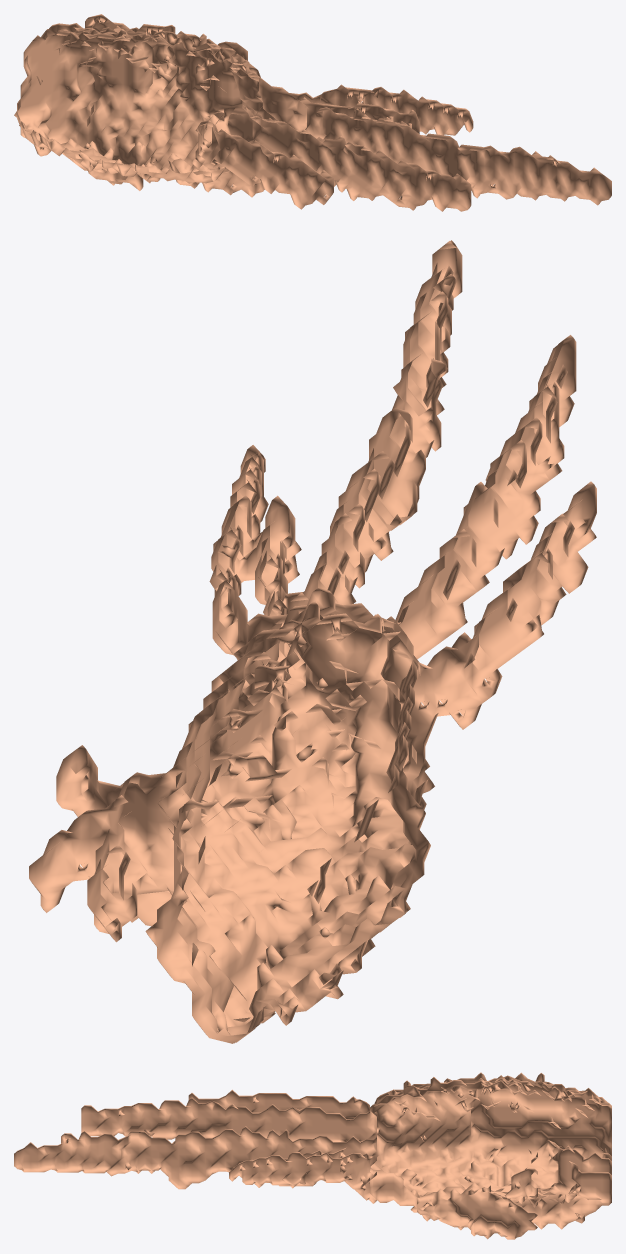
Rendered from osteocyte_27.glb.
3 renders of one model, top to bottom at view 1: azimuth 30°, elevation 25°; view 2: azimuth 150°, elevation 25°; view 3: azimuth 270°, elevation 25°, orthographic. The views are drawn at different scales.
Visible parts, largest first — view 1: osteocyte_27; view 2: osteocyte_27; view 3: osteocyte_27.
Boxes of the visible parts, x1,y1,x2,y2 form: osteocyte_27: [14, 14, 611, 211]; osteocyte_27: [29, 240, 596, 1043]; osteocyte_27: [14, 1072, 611, 1239].
Bounding box in the file's own units: 17.44 × 12.07 × 39.79.
